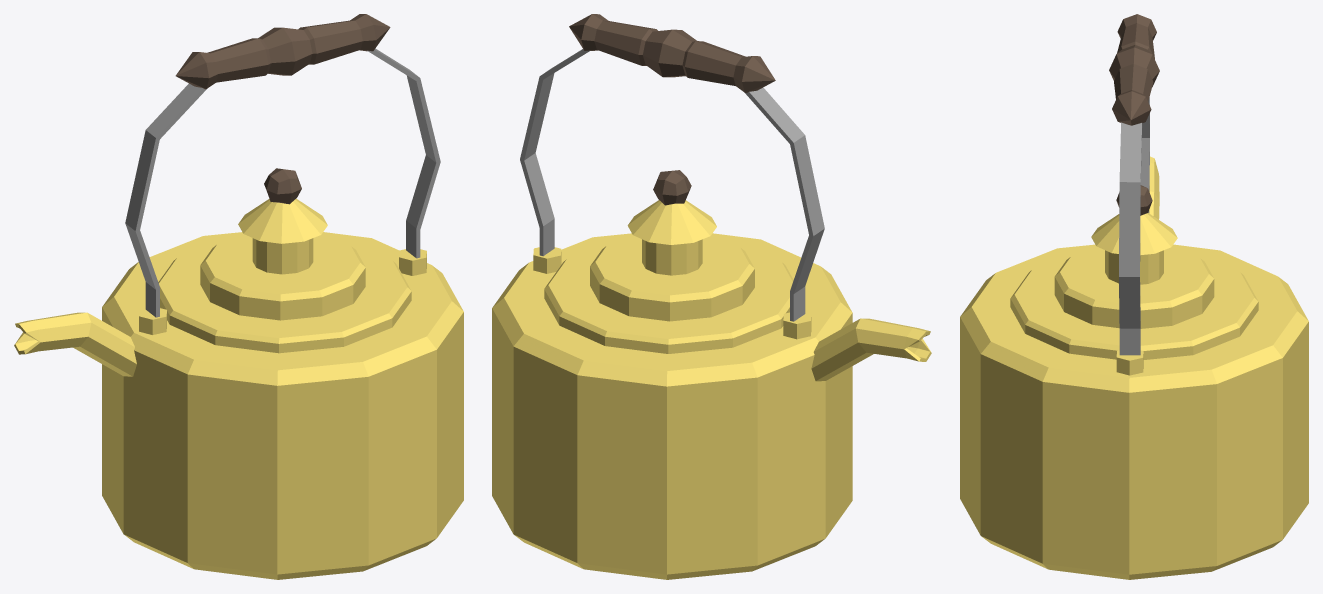
Rendered from Kettle_1.fbx.
The picture shows the model from 3 angles, left to right: view 1: azimuth 30°, elevation 25°; view 2: azimuth 150°, elevation 25°; view 3: azimuth 270°, elevation 25°; orthographic projection. The views are drawn at different scales.
Visible parts, largest first — view 1: Kettle_1; view 2: Kettle_1; view 3: Kettle_1.
Part boxes in pixels (box(x1,y1,x2,y2)): Kettle_1: box(14, 14, 463, 579); Kettle_1: box(492, 14, 931, 579); Kettle_1: box(960, 14, 1308, 579).
Bounding box in the file's own units: 30.65 × 23.09 × 33.85.
